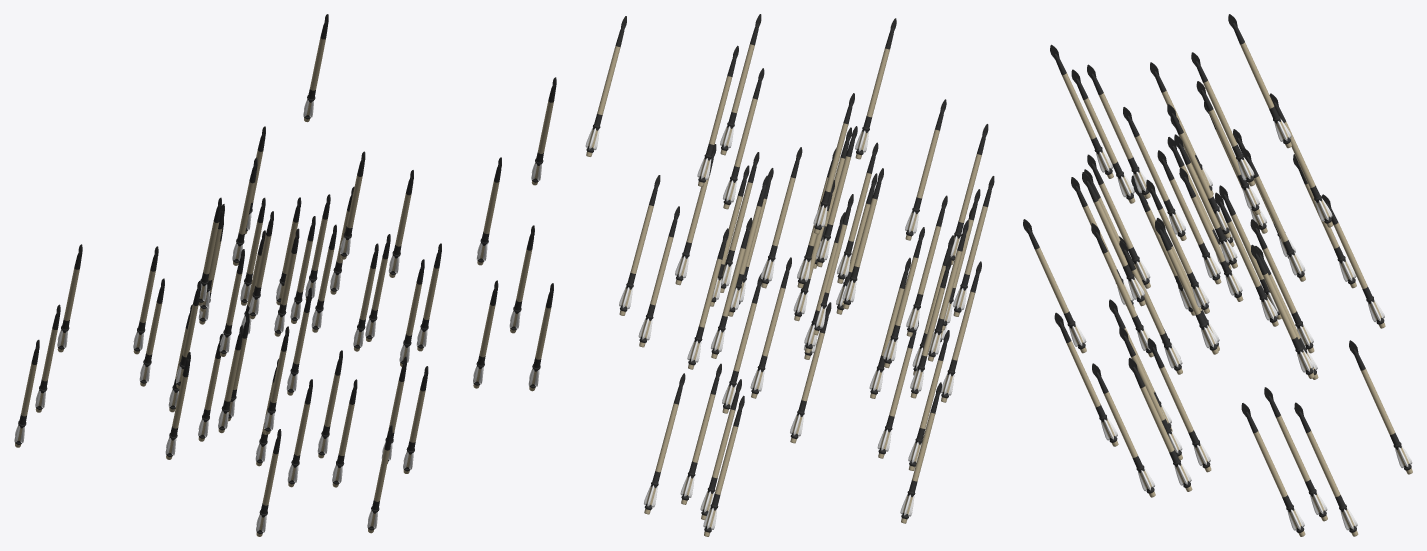
3 views of the same model, side by side, from view 1: azimuth 30°, elevation 25°; view 2: azimuth 150°, elevation 25°; view 3: azimuth 270°, elevation 25° (orthographic). The views are drawn at different scales.
Visible parts, largest first — view 1: C1; view 2: C1; view 3: C1.
Boxes of the visible parts, box(x1,y1,x2,y2) form: C1: box(14, 14, 556, 536); C1: box(585, 14, 994, 536); C1: box(1023, 14, 1412, 536).
Size of the model in its own units: 1.19 by 1.31 by 0.9232.
